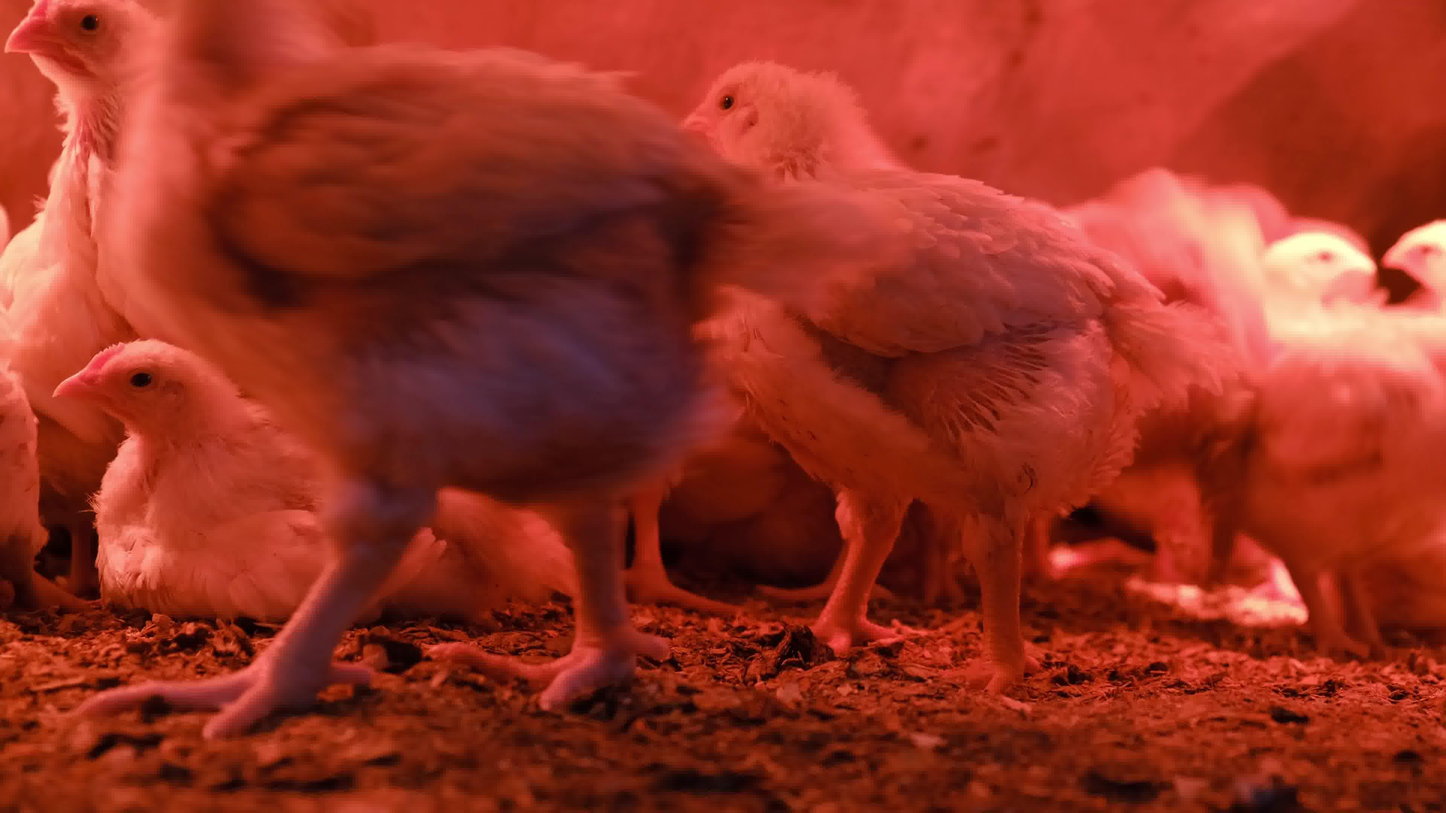AbNormal: (30, 316, 653, 666), (0, 250, 73, 683)
Normal: (130, 4, 774, 751), (672, 24, 1199, 696), (1231, 286, 1446, 706), (1075, 132, 1337, 452), (0, 0, 224, 320), (1252, 169, 1401, 326), (1352, 211, 1446, 312)
